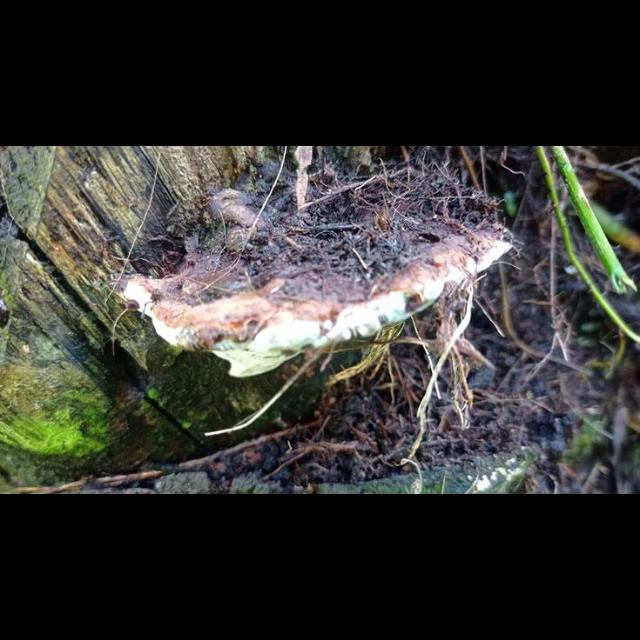ganoderma: (122, 169, 516, 381)
